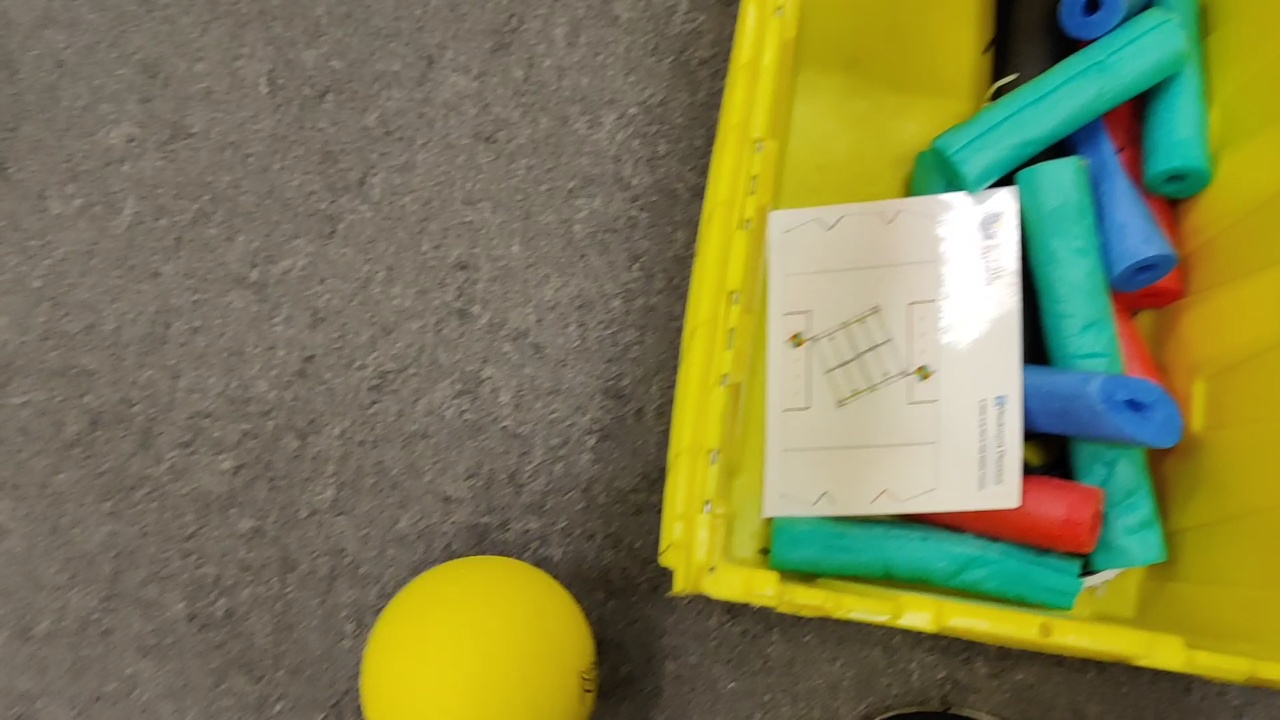Ball: (358, 554, 600, 720)
